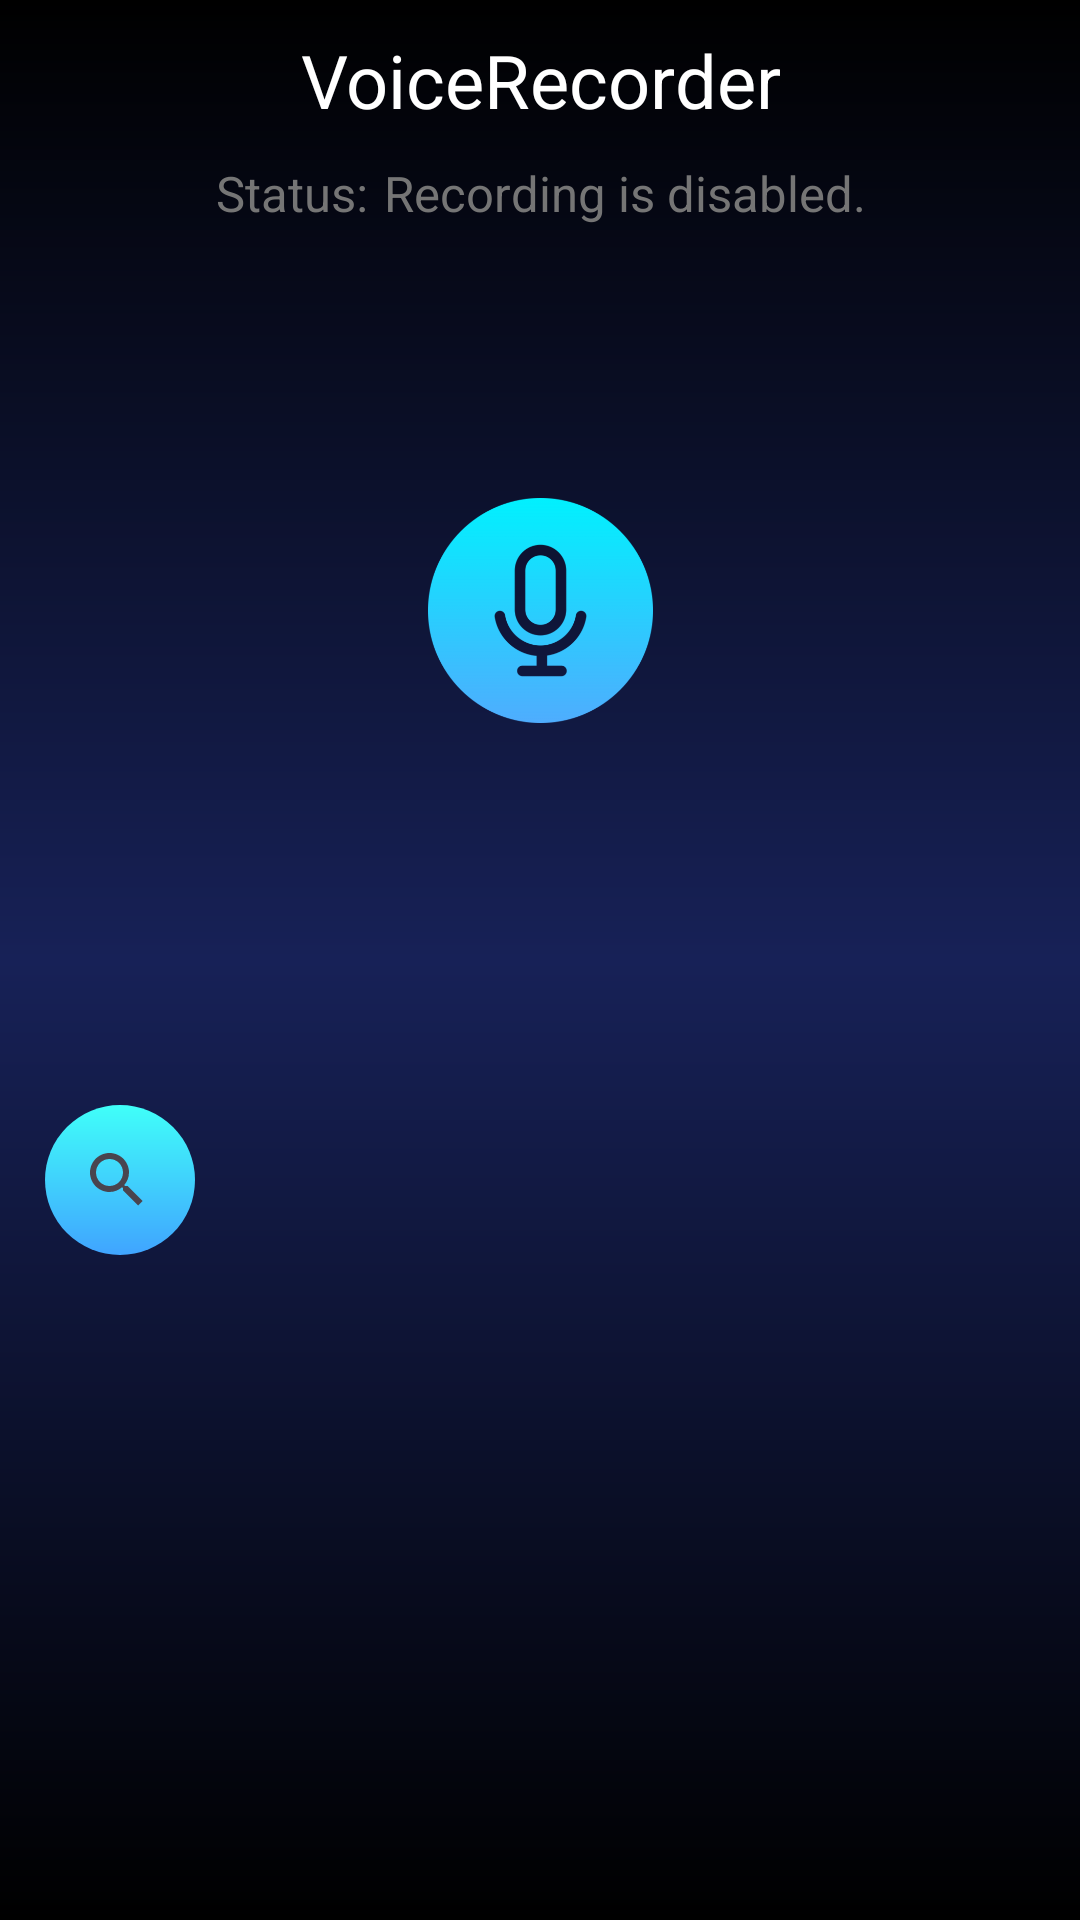

Screen size 1080 x 1920. Icon name, then its box in pixels as (x1, y1, x2, y2):
voice: (428, 498, 653, 723)
